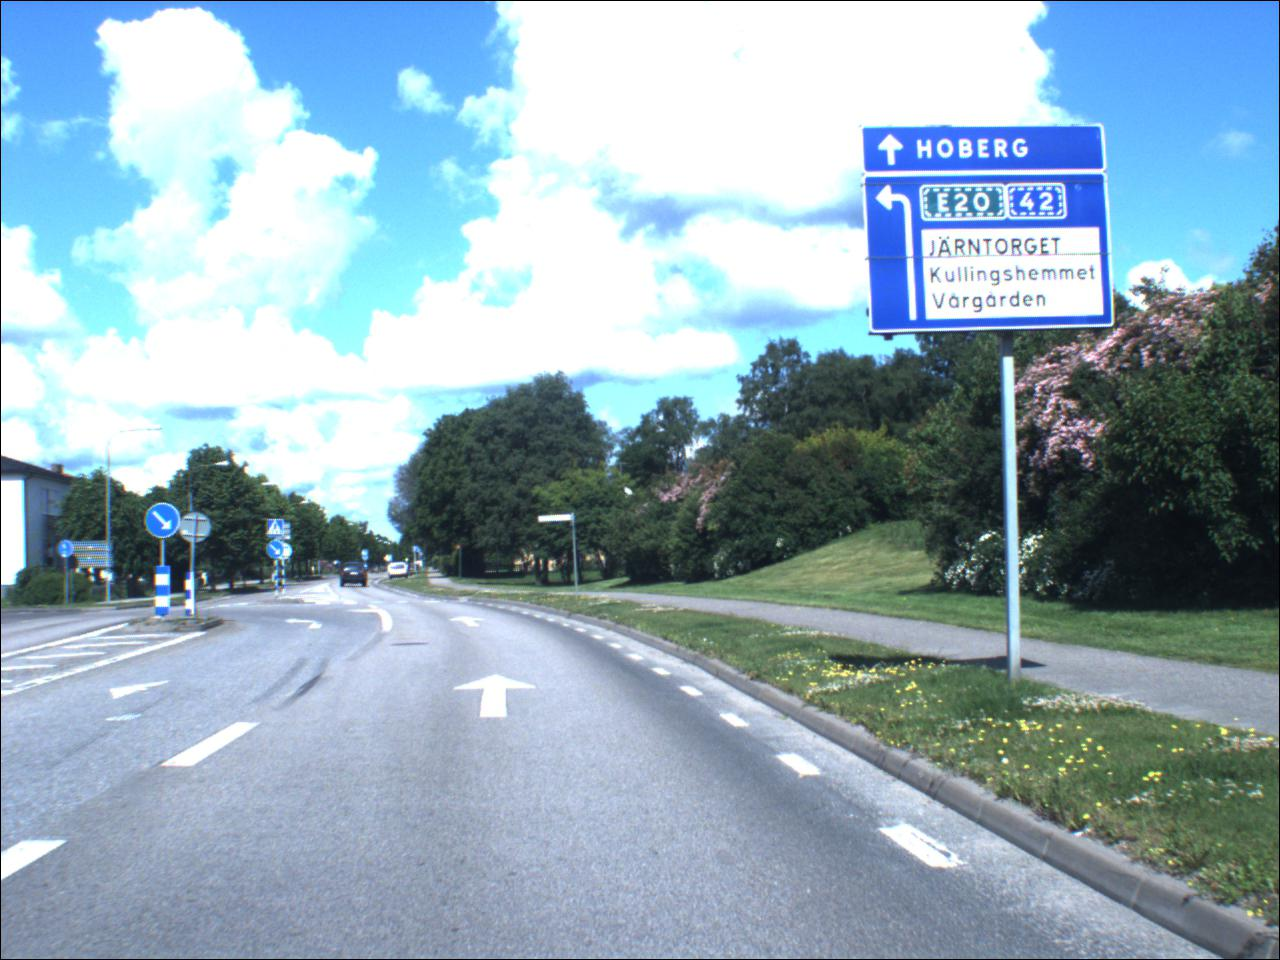PASS_RIGHT_SIDE: (146, 503, 184, 541), (268, 542, 287, 560)
PEDESTRIAN_CROSSING: (269, 520, 287, 539)
